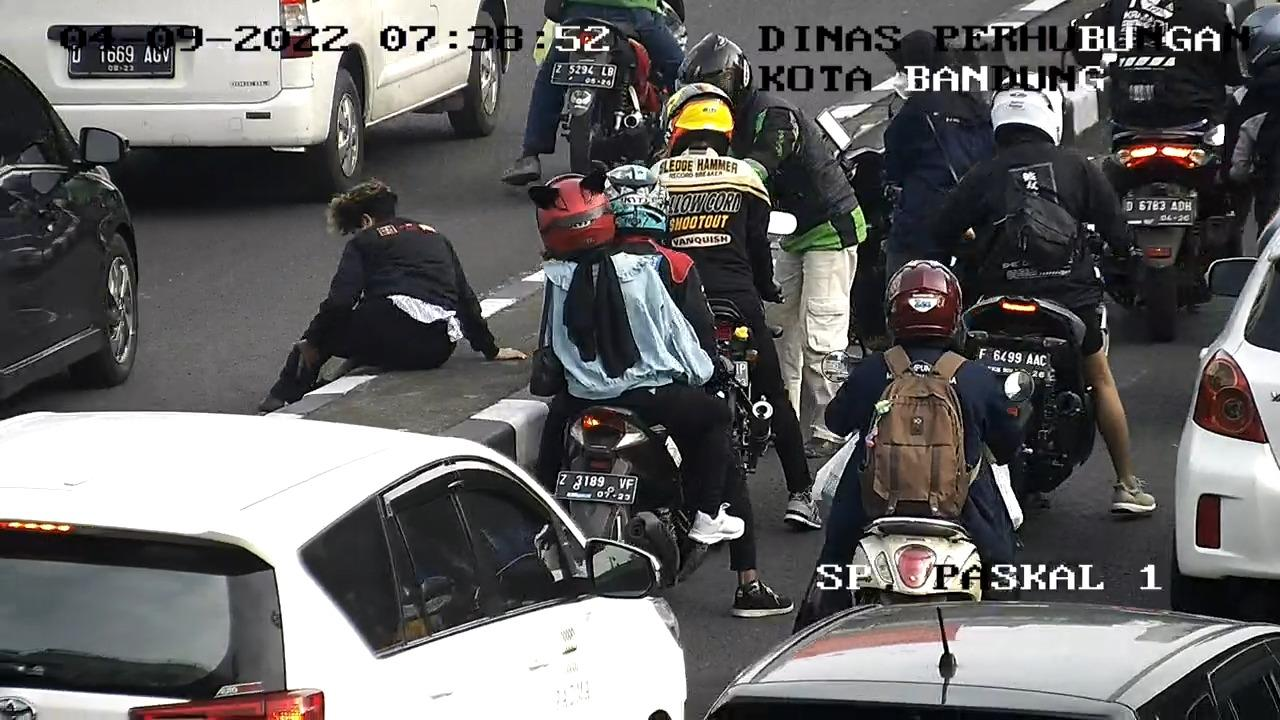accident: (247, 163, 533, 430)
